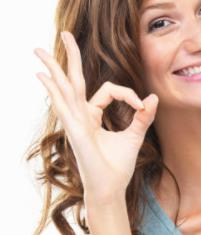left: (31, 26, 161, 199)
